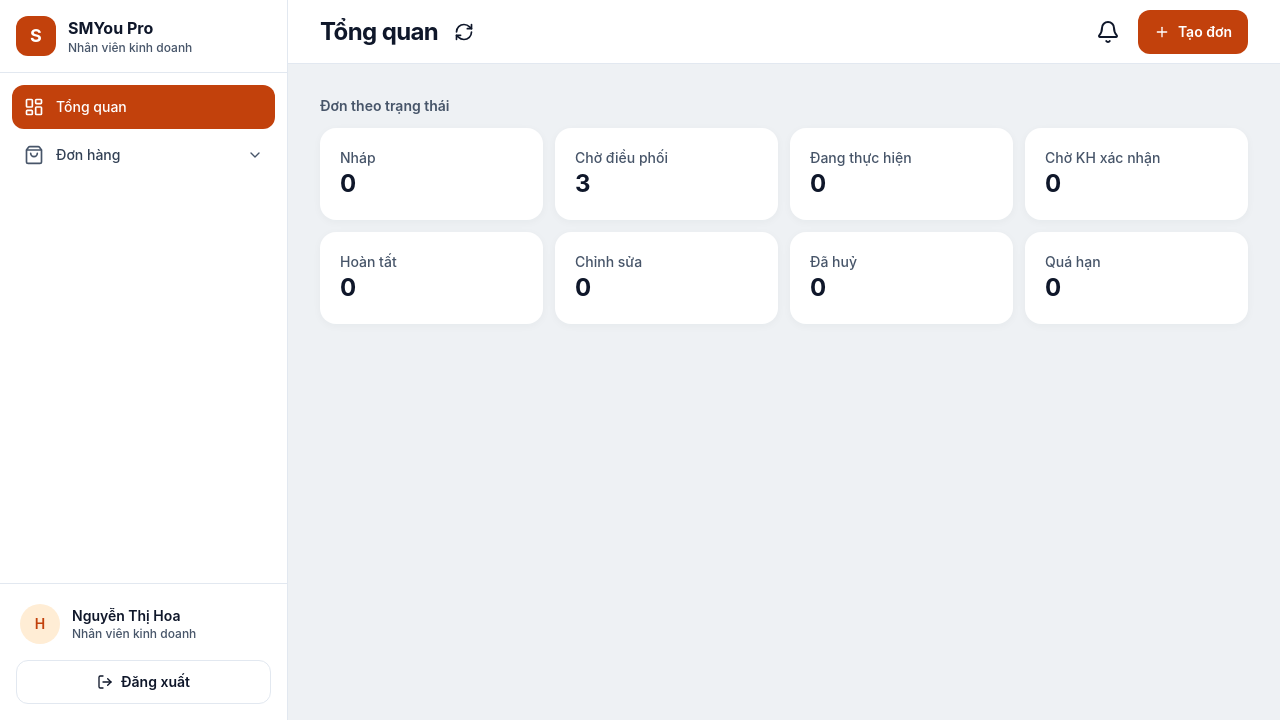
Popup chi tiết thẻ Tổng quan (M18-01a) › AC-DASH-077 desktop: Hoa bấm 'Chờ điều phối' → popup bảng, không chuyển trang, có 'Xuất Excel', mã đơn link chi tiết
This screenshot has width=1280, height=720.
Click the button "Chờ điều phối 3" at (666, 174), box x1=555 y1=128 x2=778 y2=220
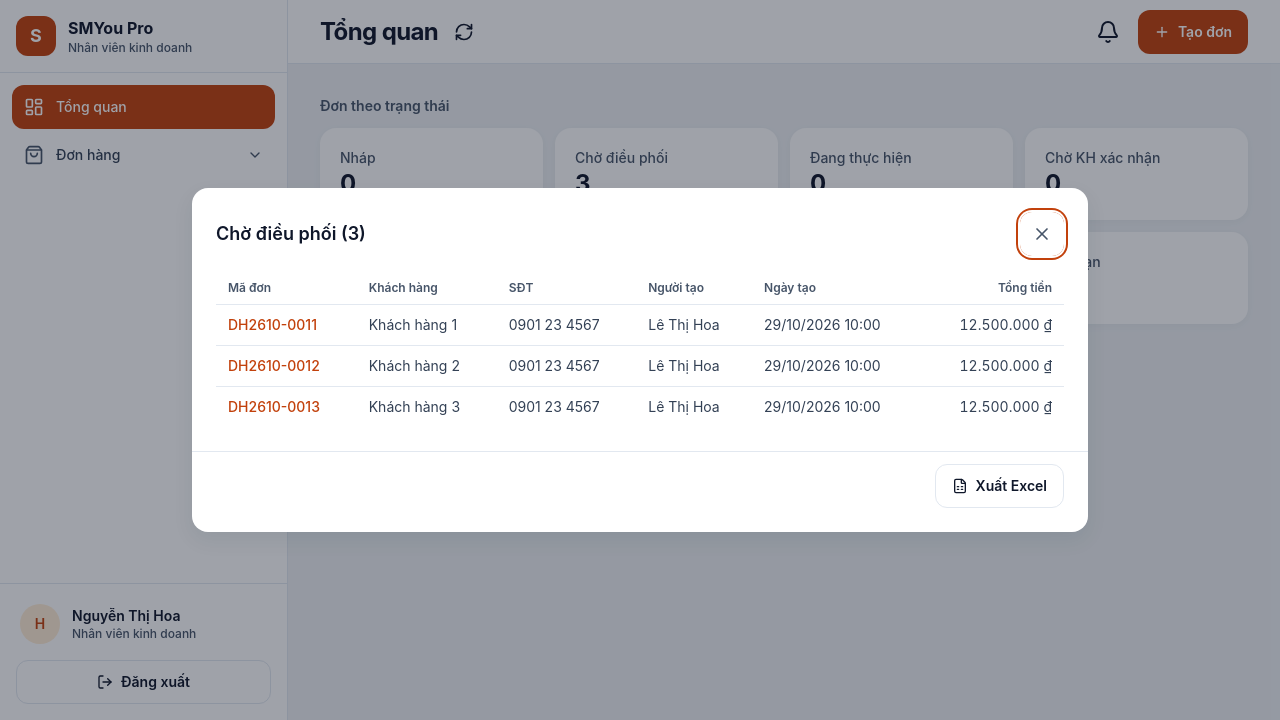
Check: the column headings read "Mã đơn", "Khách hàng", "SĐT", "Người tạo", "Ngày tạo", "Tổng tiền", in this order, box x1=216 y1=272 x2=357 y2=304; x1=357 y1=272 x2=497 y2=304; x1=497 y1=272 x2=636 y2=304; x1=636 y1=272 x2=752 y2=304; x1=752 y1=272 x2=923 y2=304; x1=923 y1=272 x2=1064 y2=304
Check: the button "Xuất Excel" is shown, box x1=935 y1=464 x2=1064 y2=508
Check: the text "29/10/2026 10:00" is shown 3 times, box x1=752 y1=304 x2=923 y2=346; x1=752 y1=346 x2=923 y2=386; x1=752 y1=386 x2=923 y2=427
